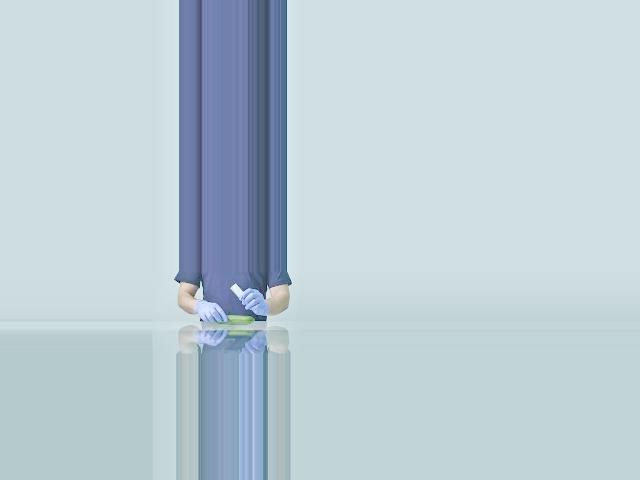cucumber: (215, 315, 254, 325)
